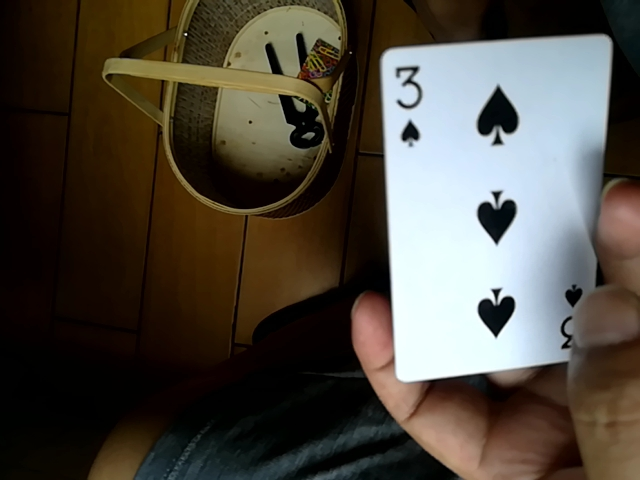ht 3: (378, 31, 612, 392)
